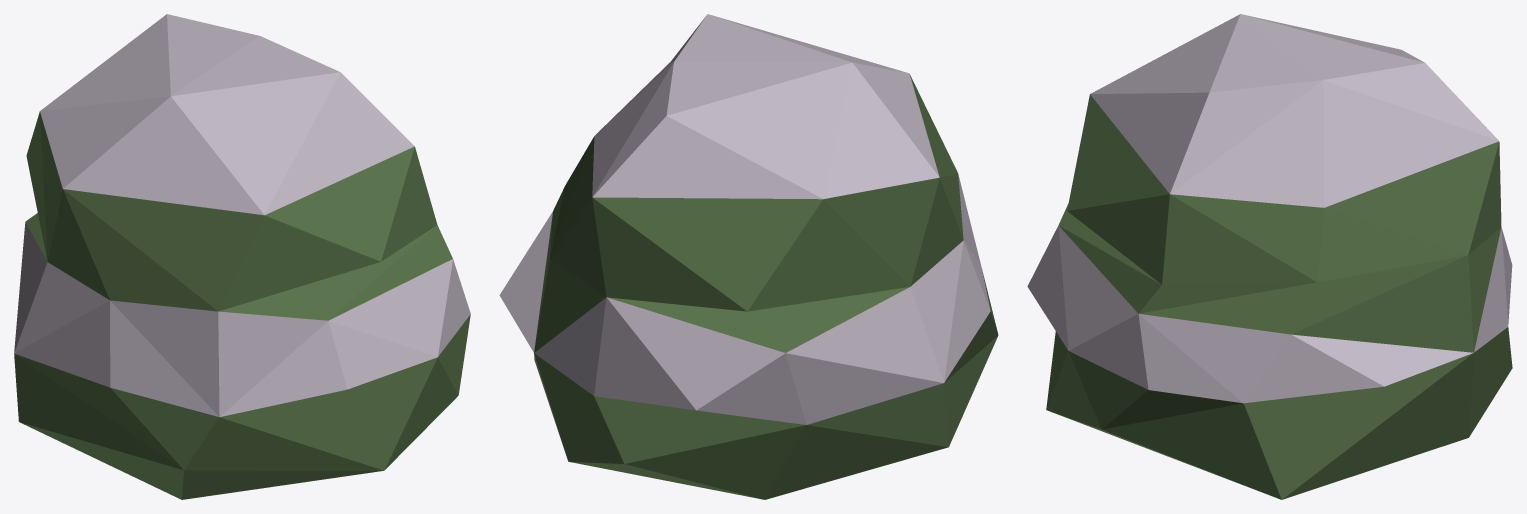
Rendered from Bush_Snow_2.lod2.glb.
The picture shows the model from 3 angles, left to right: view 1: azimuth 30°, elevation 25°; view 2: azimuth 150°, elevation 25°; view 3: azimuth 270°, elevation 25°; orthographic projection. The views are drawn at different scales.
Parts seen in each view (by area): view 1: Bush_Snow_2; view 2: Bush_Snow_2; view 3: Bush_Snow_2.
Part boxes in pixels (<box>): Bush_Snow_2: <box>14,14,470,499</box>; Bush_Snow_2: <box>499,14,998,499</box>; Bush_Snow_2: <box>1027,14,1512,499</box>.
Bounding box in the file's own units: 1.3 × 1.1 × 1.32.
